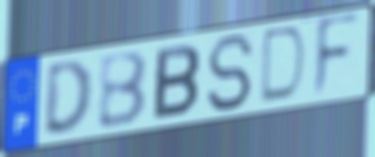B: (97, 48, 151, 132), (150, 42, 202, 124)
D: (256, 23, 310, 107), (41, 57, 96, 138)
F: (310, 9, 363, 105)
S: (205, 33, 256, 115)
